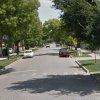Tree: (5, 0, 100, 45)
